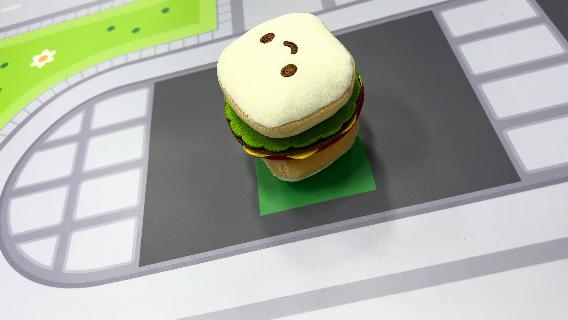sandwich: (215, 11, 368, 183)
